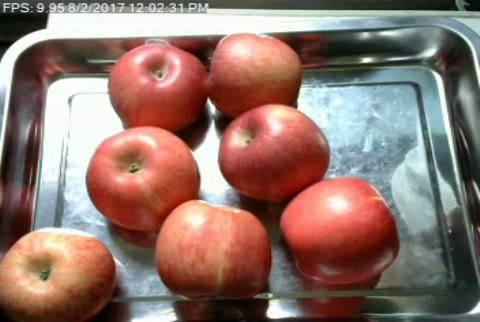apple: (280, 178, 402, 285), (86, 126, 199, 229), (157, 201, 272, 299), (0, 228, 115, 322), (219, 105, 330, 198), (109, 44, 209, 129), (208, 33, 303, 113)
